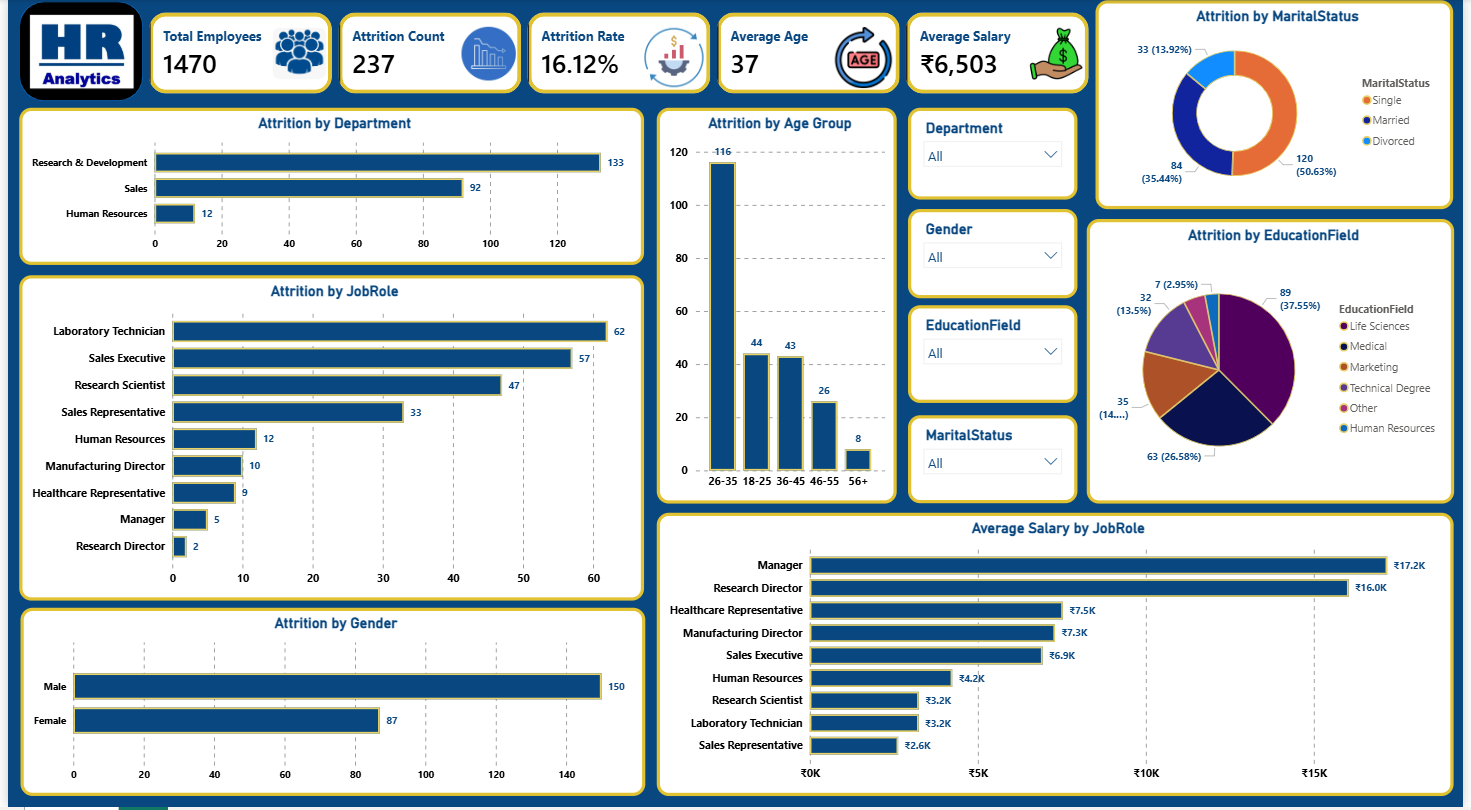

Layout of this report page (visuals, bound fields, positions):
{"tool":"powerbi","page":{"name":"Page 1","canvas":[1800,1000],"ordinal":0},"visuals":[{"type":"cardVisual","fields":{"Data":["HR_Employee.Total Employees","HR_Employee.Attrition Count","HR_Employee.Attrition Rate","HR_Employee.Average Age","HR_Employee.Average Salary"]},"box":[157.5,0,1198.1,134],"z":0},{"type":"shape","box":[14.5,2.4,153.2,123.1],"z":1000},{"type":"image","box":[25.3,7.2,132.7,118.2],"z":2000},{"type":"clusteredBarChart","title":"Attrition by Department","fields":{"Category":["HR_Employee.Department"],"Y":["HR_Employee.Attrition Count"]},"box":[13.4,134,772.5,194.4],"z":3000},{"type":"clusteredBarChart","title":"Attrition by JobRole","fields":{"Y":["HR_Employee.Attrition Count"],"Category":["HR_Employee.JobRole"]},"box":[13.4,341.8,772.5,402.1],"z":4000},{"type":"clusteredBarChart","title":"Attrition by Gender","fields":{"Category":["HR_Employee.Gender"],"Y":["HR_Employee.Attrition Count"]},"box":[15.1,752.3,772.5,232.9],"z":5000},{"type":"clusteredColumnChart","title":"Attrition by Age Group","fields":{"Category":["HR_Employee.Age Group"],"Y":["HR_Employee.Attrition Count"]},"box":[802.6,134,296.6,489.3],"z":6000},{"type":"pieChart","title":"Attrition by EducationField","fields":{"Category":["HR_Employee.EducationField"],"Y":["HR_Employee.Attrition Count"]},"box":[1333.8,271.4,454.1,351.9],"z":7000},{"type":"donutChart","title":"Attrition by MaritalStatus","fields":{"Category":["HR_Employee.MaritalStatus"],"Y":["HR_Employee.Attrition Count"]},"box":[1345.5,1.7,442.4,258],"z":8000},{"type":"clusteredBarChart","fields":{"Category":["HR_Employee.JobRole"],"Y":["HR_Employee.Average Salary"]},"box":[802.6,635.1,985.3,350.2],"z":9000},{"type":"slicer","fields":{"Values":["HR_Employee.Department"]},"box":[1112.6,134,209.5,113.9],"z":9001},{"type":"slicer","fields":{"Values":["HR_Employee.Gender"]},"box":[1112.6,259.7,209.5,110.6],"z":9002},{"type":"slicer","fields":{"Values":["HR_Employee.EducationField"]},"box":[1112.6,378.7,209.5,120.6],"z":9003},{"type":"slicer","fields":{"Values":["HR_Employee.MaritalStatus"]},"box":[1112.6,514.4,209.5,108.9],"z":9004}]}

Visuals, with their boxes in screenshot pixels (x1, y1, x2, y2), scaled from the page's 1800x1000 canvas onto the 1471x810 screenshot:
cardVisual - HR_Employee.Total Employees x HR_Employee.Attrition Count: (129, 0, 1108, 109)
shape: (12, 2, 137, 102)
image: (21, 6, 129, 102)
"Attrition by Department" clusteredBarChart: (11, 109, 642, 266)
"Attrition by JobRole" clusteredBarChart: (11, 277, 642, 603)
"Attrition by Gender" clusteredBarChart: (12, 609, 644, 798)
"Attrition by Age Group" clusteredColumnChart: (656, 109, 898, 505)
"Attrition by EducationField" pieChart: (1090, 220, 1461, 505)
"Attrition by MaritalStatus" donutChart: (1100, 1, 1461, 210)
clusteredBarChart - HR_Employee.JobRole x HR_Employee.Average Salary: (656, 514, 1461, 798)
slicer - HR_Employee.Department: (909, 109, 1080, 201)
slicer - HR_Employee.Gender: (909, 210, 1080, 300)
slicer - HR_Employee.EducationField: (909, 307, 1080, 404)
slicer - HR_Employee.MaritalStatus: (909, 417, 1080, 505)
